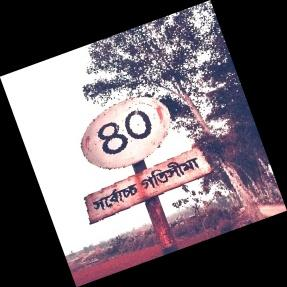Speed-limit: (81, 96, 211, 228)
